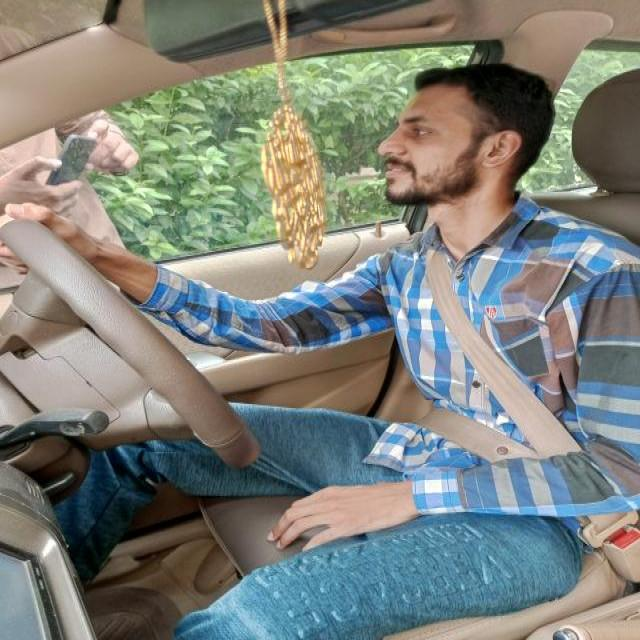seatbelt: (361, 241, 636, 538)
